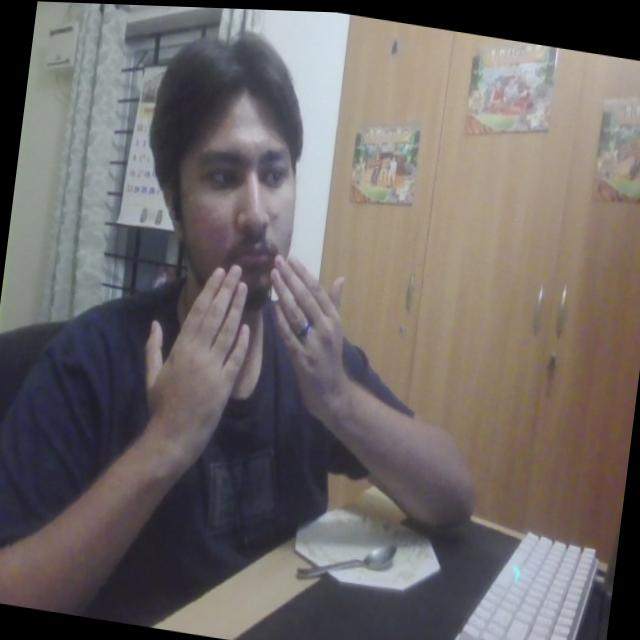thankyou: (122, 228, 374, 476)
